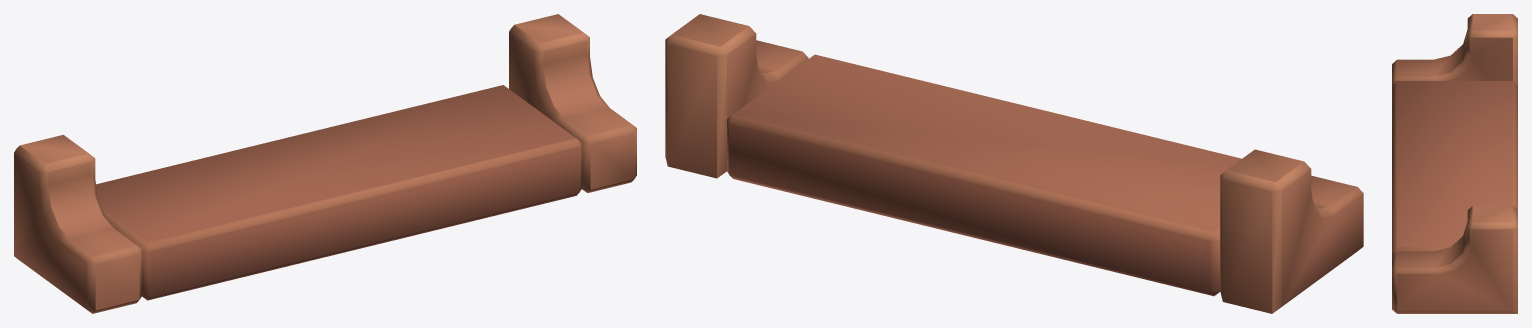
Rendered from kkf.shelf_b_large.glb.
3 views of the same model, side by side, from view 1: azimuth 30°, elevation 25°; view 2: azimuth 150°, elevation 25°; view 3: azimuth 270°, elevation 25° (orthographic). The views are drawn at different scales.
Parts seen in each view (by area): view 1: shelf_B_large; view 2: shelf_B_large; view 3: shelf_B_large.
Boxes of the visible parts, x1,y1,x2,y2 form: shelf_B_large: [14, 14, 636, 313]; shelf_B_large: [665, 14, 1363, 313]; shelf_B_large: [1392, 14, 1517, 313].
Bounding box in the file's own units: 1.43 × 0.2861 × 0.3578.
Materials: 1 (1 with a texture image).
